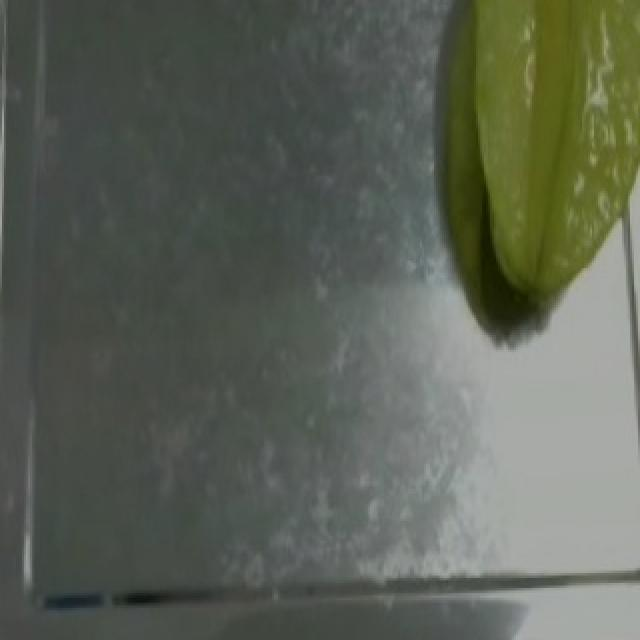fruit: (450, 0, 640, 315)
